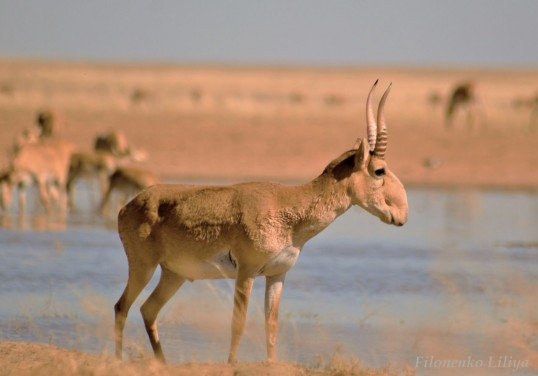saiga: (110, 72, 412, 355)
